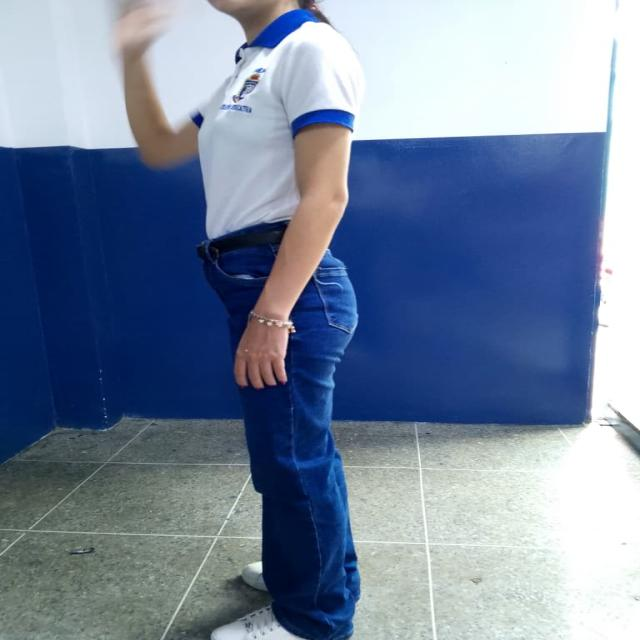pantalon_oscuro: (203, 238, 361, 640)
uniforme_superior: (186, 8, 368, 240)
